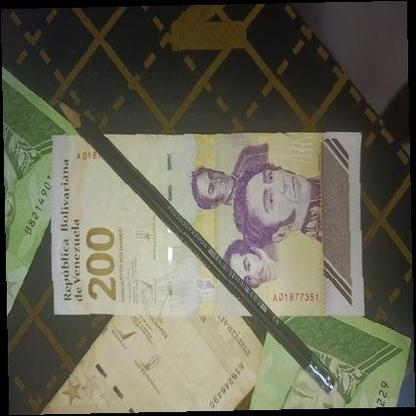fifty-front-vef: (0, 66, 82, 317), (247, 304, 416, 416)
five-front-vef: (34, 313, 261, 416)
two_hundred-front-vef: (51, 132, 363, 315)
